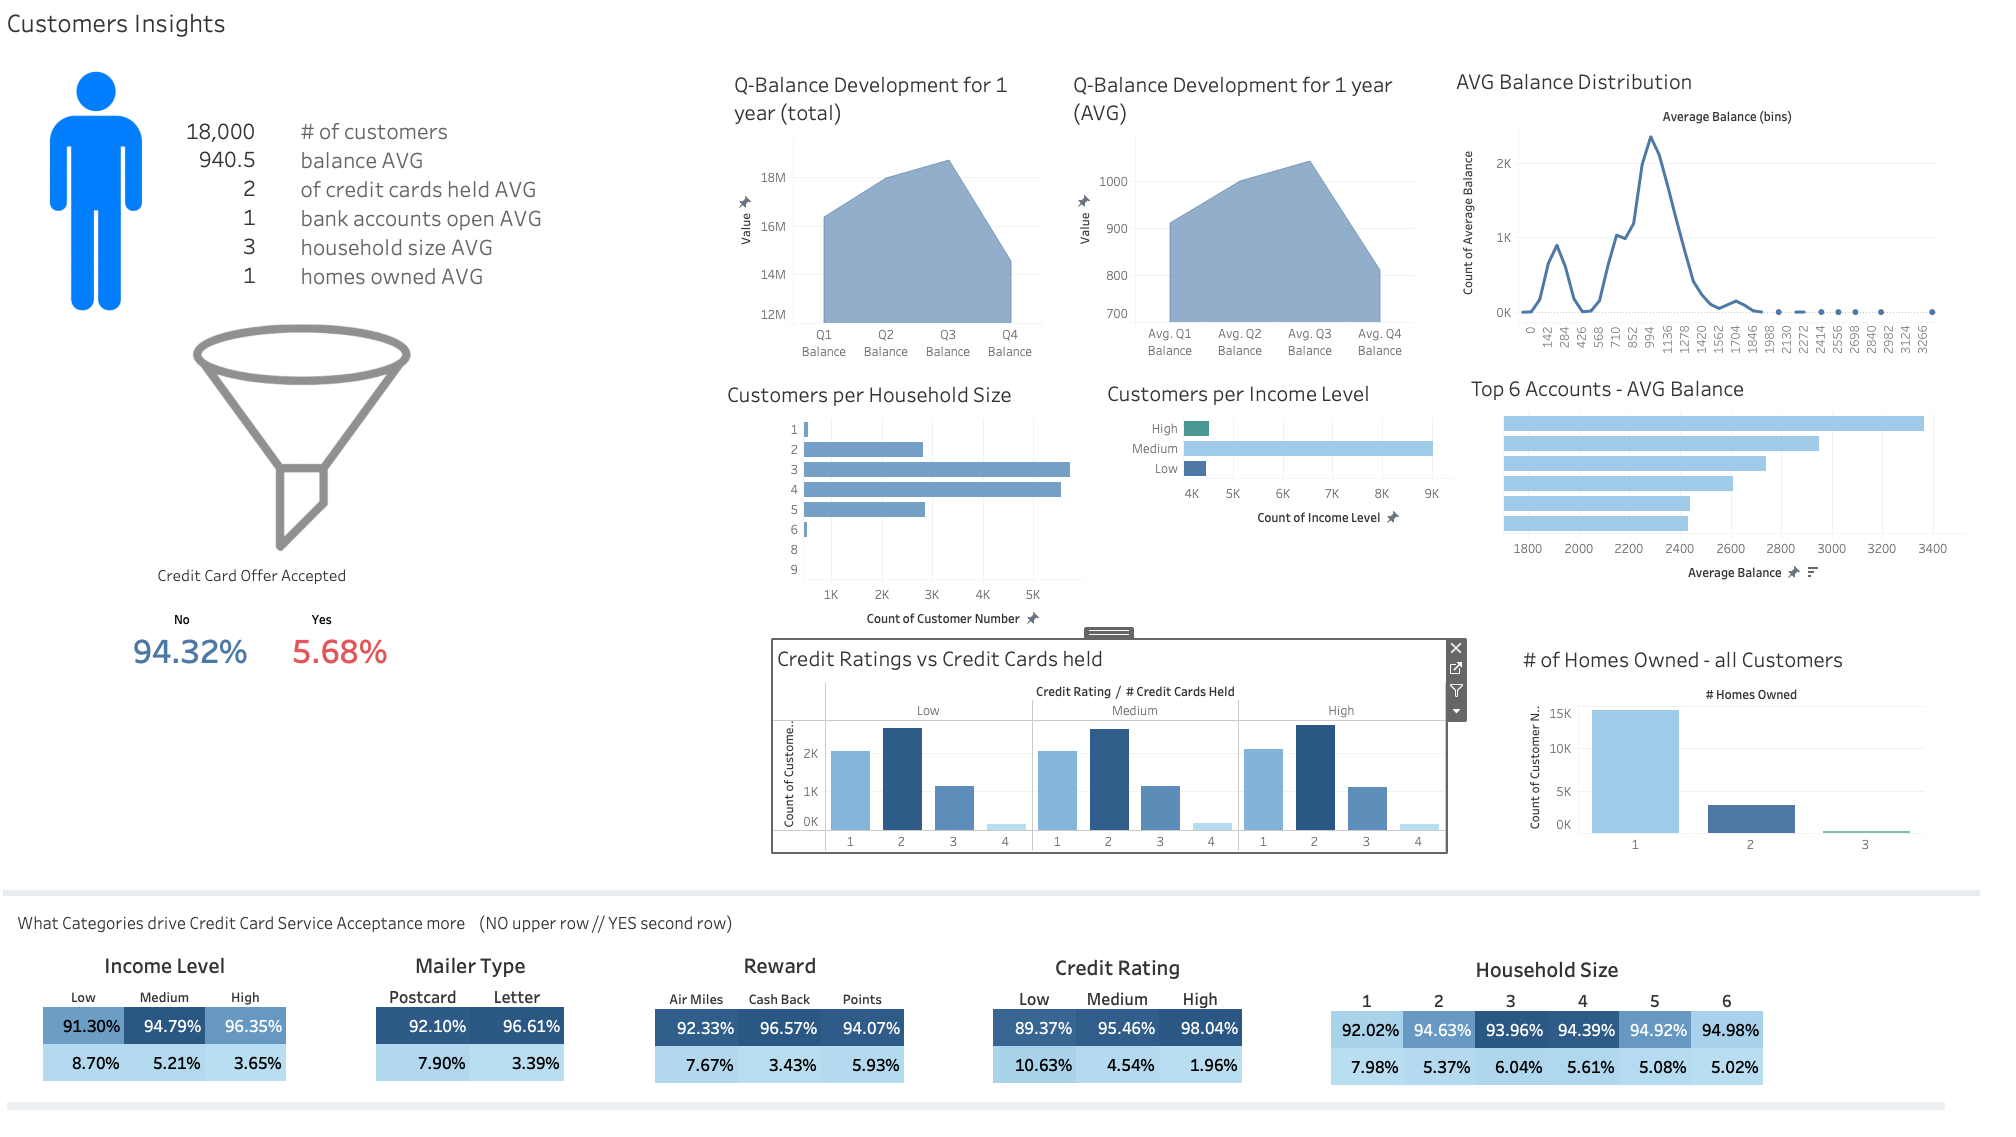

The page's visual inventory and layout, read from the dashboard file:
{"tool":"tableau","page":{"name":"Dashboard 3","canvas":[1000,1000],"units":"permille","ordinal":1},"visuals":[{"type":"title","box":[3.9,6.2,992.1,32.4]},{"type":"image","param":"Image/blue_man-removebg-preview.png","box":[4.1,51.7,92.6,199.2]},{"type":"worksheet","title":"AVG Balance Distriution","mark":"Line","rows":["Average Balance"],"cols":["Average Balance (bin) 3"],"box":[716.3,53.3,237.4,225.5]},{"type":"worksheet","title":"Q Comparison","mark":"Area","box":[362.1,55.6,153.5,229.3]},{"type":"worksheet","title":"Q Comparison - AVG","mark":"Area","box":[528.4,55.6,169.6,228.6]},{"type":"worksheet","title":"Basic Data","mark":"Automatic","box":[92.2,94.2,57.3,159.8]},{"type":"text","box":[150.1,94.2,157.3,134.4]},{"type":"image","param":"Image/bnbn.png","box":[68.2,254.8,163.7,178.4]},{"type":"worksheet","title":"Top 6 - AVG Balance","mark":"Automatic","rows":["Customer Number"],"cols":["Average Balance"],"box":[723.6,290.4,245.6,254.1]},{"type":"worksheet","title":"Income Level","mark":"Automatic","rows":["Income Level"],"cols":["Income Level"],"box":[545.4,294.2,172.8,127.4]},{"type":"worksheet","title":"Cust X Household Size","mark":"Bar","rows":["Household Size"],"cols":["Customer Number"],"box":[358.7,295,177.2,229.3]},{"type":"worksheet","title":"Ration OA - colored","mark":"Automatic","cols":["Offer Accepted"],"box":[58.7,437.8,214.7,108.9]},{"type":"worksheet","title":"Credit Rating X CC held","mark":"Automatic","rows":["Customer Number"],"cols":["Credit Rating","# Credit Cards Held"],"box":[383.2,498.8,330.4,163.7]},{"type":"worksheet","title":"Homes Owned - all customers","mark":"Bar","rows":["Customer Number"],"cols":["# Homes Owned"],"box":[749.1,499.6,198.7,164.5]},{"type":"blank","box":[5.3,691.9,970.3,4.6]},{"type":"text","box":[11.3,704.2,454.9,26.2]},{"type":"worksheet","title":"Reward <> OA - colored","mark":"Square","rows":["Offer Accepted"],"cols":["Reward"],"box":[315.5,719.7,200.5,152.1]},{"type":"worksheet","title":"Income Level <> OA - colored","mark":"Square","rows":["Offer Accepted"],"cols":["Income Level"],"box":[13.1,721.2,202.8,156]},{"type":"worksheet","title":"Mailer Type <> OA - colored","mark":"Square","rows":["Offer Accepted"],"cols":["Mailer Type"],"box":[172.6,721.2,168.5,137.5]},{"type":"worksheet","title":"Rating <> OA - colored ","mark":"Square","rows":["Offer Accepted"],"cols":["Credit Rating"],"box":[475.7,722.8,190.4,128.2]},{"type":"worksheet","title":"HoushSize <> OA - colored","mark":"Square","rows":["Offer Accepted"],"cols":["Household Size"],"box":[647.1,724.3,271.6,141.3]},{"type":"blank","box":[7.1,855.6,951.4,6.2]}]}

Visuals, with their boxes on the dashboard's canvas, which has no fixed pixel size, in thousandths of its width and height (x1, y1, x2, y2). These are canvas units, not pixel positions in the 2016x1137 screenshot, which may show the page scaled, cropped or inside an application window:
title: x1=4 y1=6 x2=996 y2=39
image: x1=4 y1=52 x2=97 y2=251
"AVG Balance Distriution" worksheet (Line marks): x1=716 y1=53 x2=954 y2=279
"Q Comparison" worksheet (Area marks): x1=362 y1=56 x2=516 y2=285
"Q Comparison - AVG" worksheet (Area marks): x1=528 y1=56 x2=698 y2=284
"Basic Data" worksheet: x1=92 y1=94 x2=150 y2=254
text: x1=150 y1=94 x2=307 y2=229
image: x1=68 y1=255 x2=232 y2=433
"Top 6 - AVG Balance" worksheet: x1=724 y1=290 x2=969 y2=544
"Income Level" worksheet: x1=545 y1=294 x2=718 y2=422
"Cust X Household Size" worksheet (Bar marks): x1=359 y1=295 x2=536 y2=524
"Ration OA - colored" worksheet: x1=59 y1=438 x2=273 y2=547
"Credit Rating X CC held" worksheet: x1=383 y1=499 x2=714 y2=662
"Homes Owned - all customers" worksheet (Bar marks): x1=749 y1=500 x2=948 y2=664
blank: x1=5 y1=692 x2=976 y2=696
text: x1=11 y1=704 x2=466 y2=730
"Reward <> OA - colored" worksheet (Square marks): x1=316 y1=720 x2=516 y2=872
"Income Level <> OA - colored" worksheet (Square marks): x1=13 y1=721 x2=216 y2=877
"Mailer Type <> OA - colored" worksheet (Square marks): x1=173 y1=721 x2=341 y2=859
"Rating <> OA - colored " worksheet (Square marks): x1=476 y1=723 x2=666 y2=851
"HoushSize <> OA - colored" worksheet (Square marks): x1=647 y1=724 x2=919 y2=866
blank: x1=7 y1=856 x2=958 y2=862
